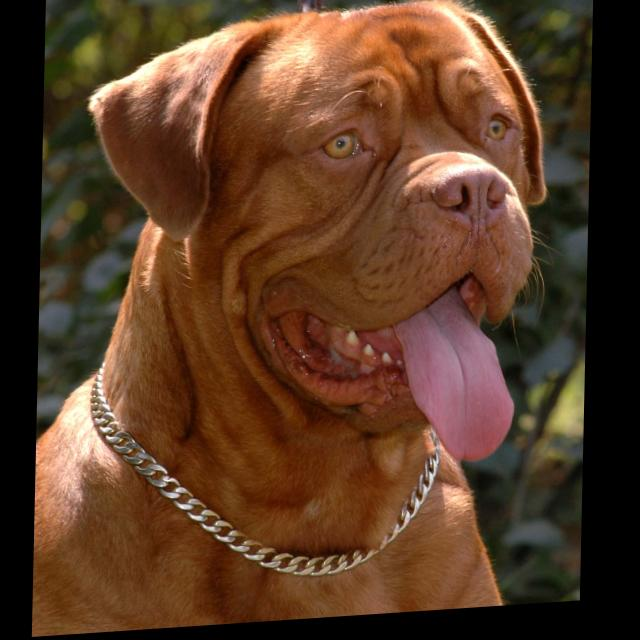dogue_de_bordeaux: (36, 1, 551, 639)
